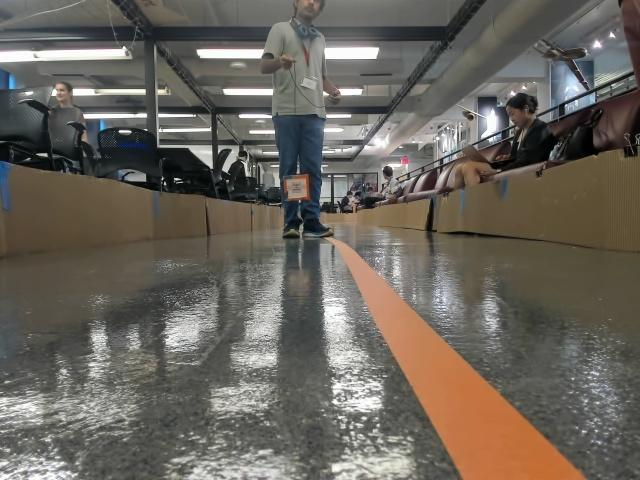Do Not Go Around: (288, 180, 305, 192)
